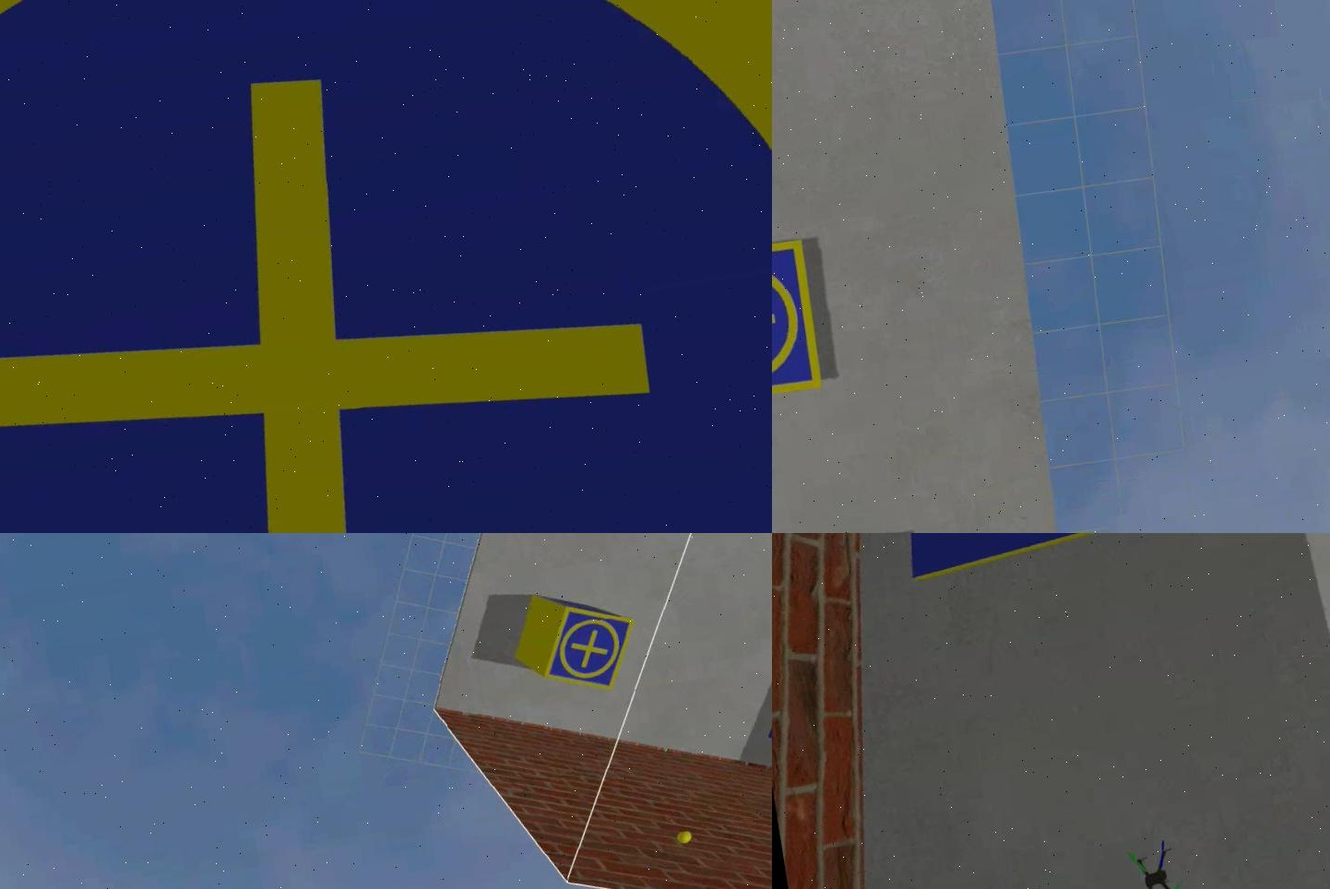large_base: (0, 1, 771, 534)
small_base: (532, 598, 640, 699), (771, 238, 824, 415)
